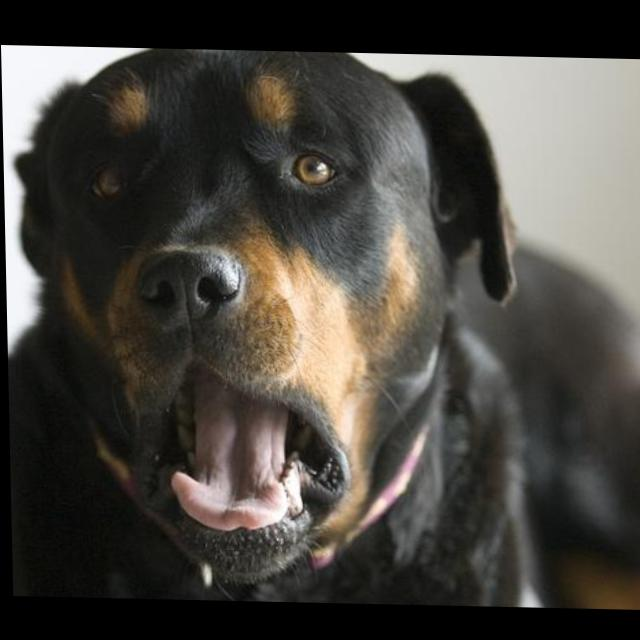rottweiler: (2, 46, 640, 608)
